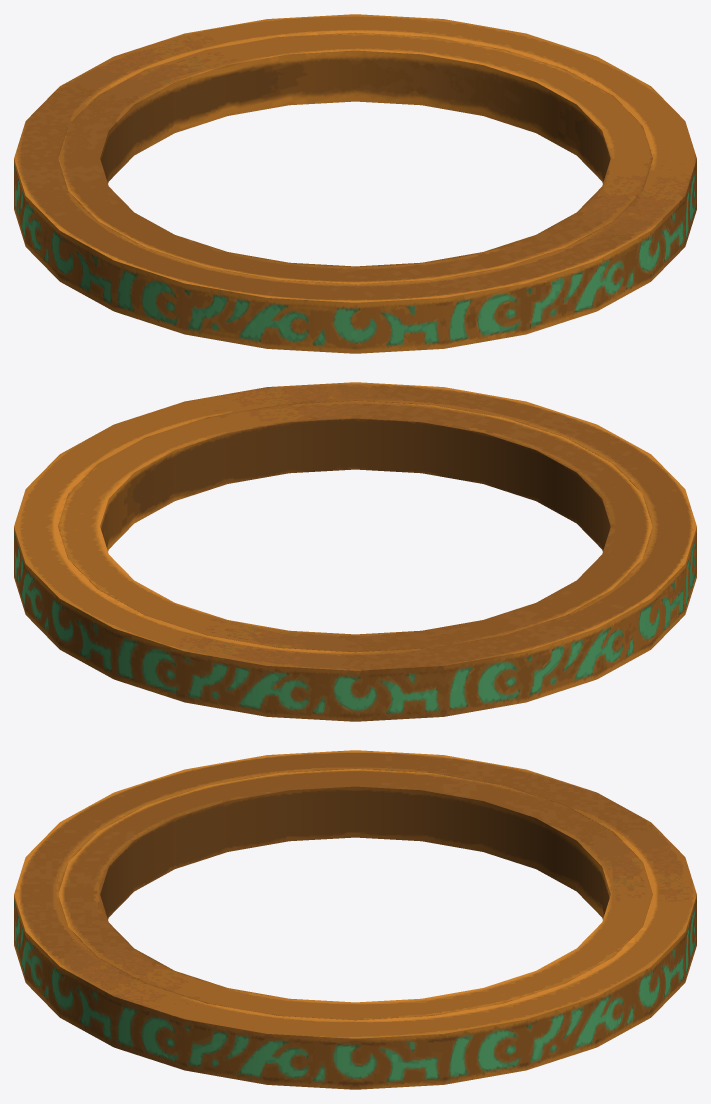
The model's file is heart_rings_01_072a7705.glb.
3 renders of one model, top to bottom at view 1: azimuth 30°, elevation 25°; view 2: azimuth 150°, elevation 25°; view 3: azimuth 270°, elevation 25°, orthographic.
Bounding box in the file's own units: 5.63 × 0.4637 × 5.63.
1 material, 1 textured.
